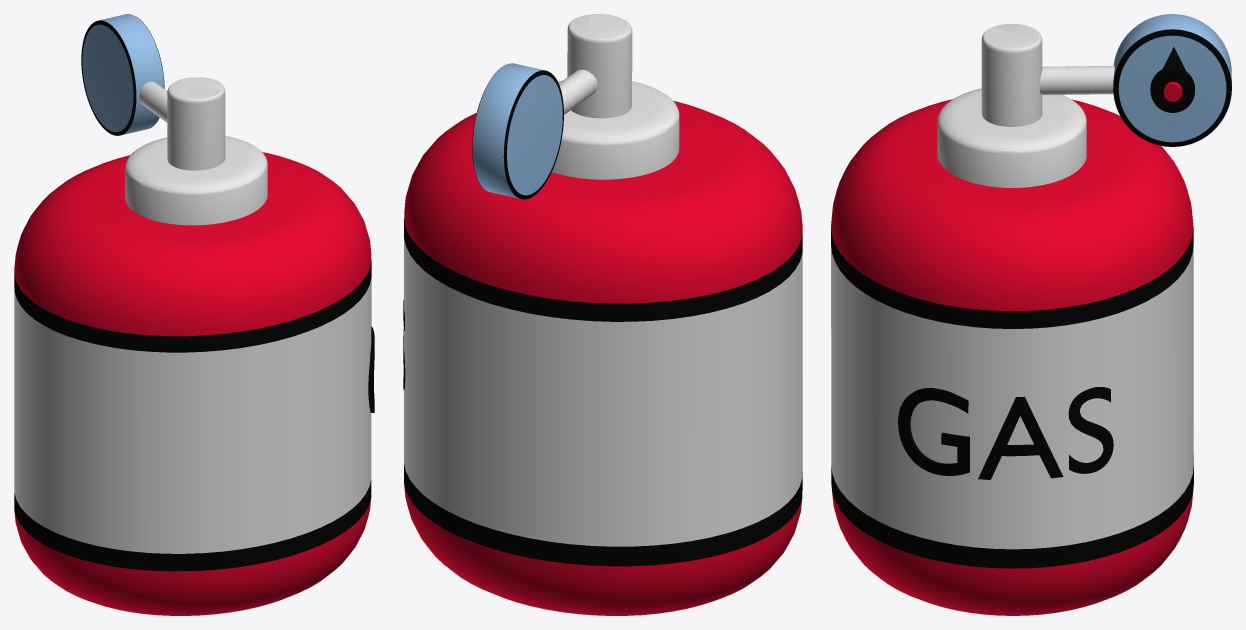
The model's file is gasBottle.fbx.
3 views of the same model, side by side, from view 1: azimuth 30°, elevation 25°; view 2: azimuth 150°, elevation 25°; view 3: azimuth 270°, elevation 25° (orthographic). The views are drawn at different scales.
Parts seen in each view (by area): view 1: BottleBody; view 2: BottleBody; view 3: BottleBody, GAS.
Boxes of the visible parts, box(x1,y1,x2,y2) form: BottleBody: box(14, 14, 371, 615); BottleBody: box(404, 14, 802, 615); BottleBody: box(831, 14, 1231, 615); GAS: box(898, 387, 1113, 479).
Bounding box in the file's own units: 313 × 461 × 312.
